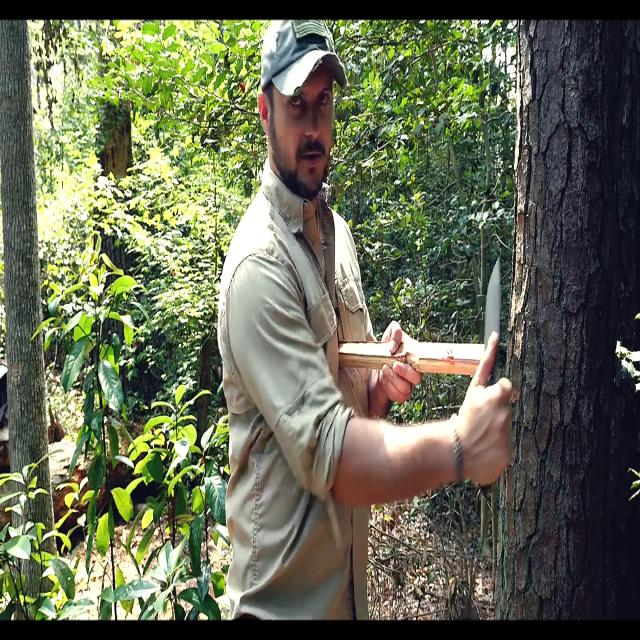knife: (487, 254, 505, 385)
